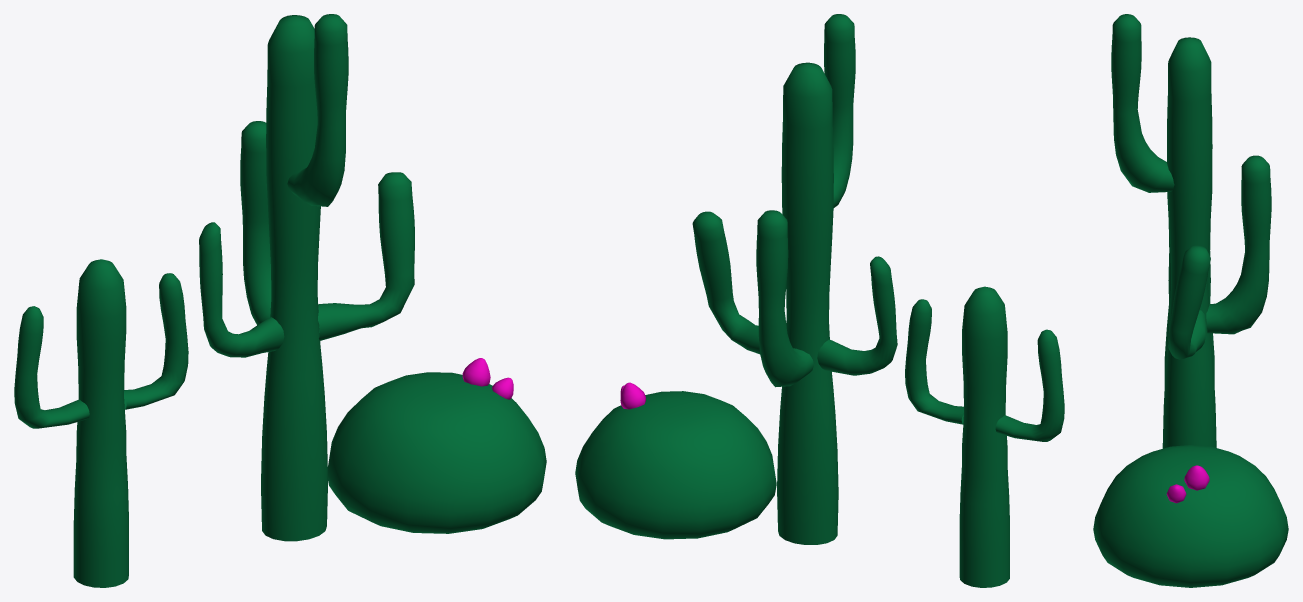
File: cactus (1).fbx
3 renders of one model, left to right at view 1: azimuth 30°, elevation 25°; view 2: azimuth 150°, elevation 25°; view 3: azimuth 270°, elevation 25°, orthographic. The views are drawn at different scales.
Parts seen in each view (by area): view 1: CactusTipo2, Cactus, Cactus.001, CactusFlower; view 2: CactusTipo2, Cactus, Cactus.001; view 3: CactusTipo2, Cactus, CactusFlower, Cactus.001.
Boxes of the visible parts, x1,y1,x2,y2 form: CactusTipo2: [199, 14, 414, 541]; Cactus: [328, 372, 546, 533]; Cactus.001: [14, 259, 188, 587]; CactusFlower: [462, 358, 513, 399]; CactusTipo2: [692, 14, 897, 544]; Cactus: [575, 391, 776, 539]; Cactus.001: [905, 286, 1064, 587]; CactusTipo2: [1111, 14, 1271, 448]; Cactus: [1093, 445, 1288, 587]; CactusFlower: [1166, 465, 1209, 503]; Cactus.001: [1164, 179, 1214, 384].
Size of the model in its own units: 539 by 543 by 200.
